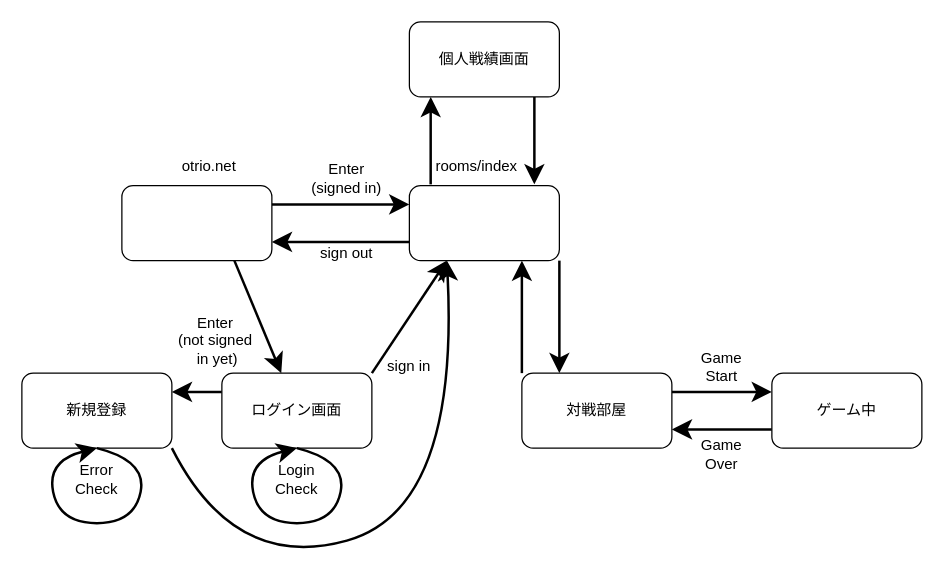
Image size: 944x570. Some labels were removed from this diagram. Each missing label, with the centre of its shape:
"トップ画面" goes at [196,222].
"ロビー画面" goes at [483,222].
